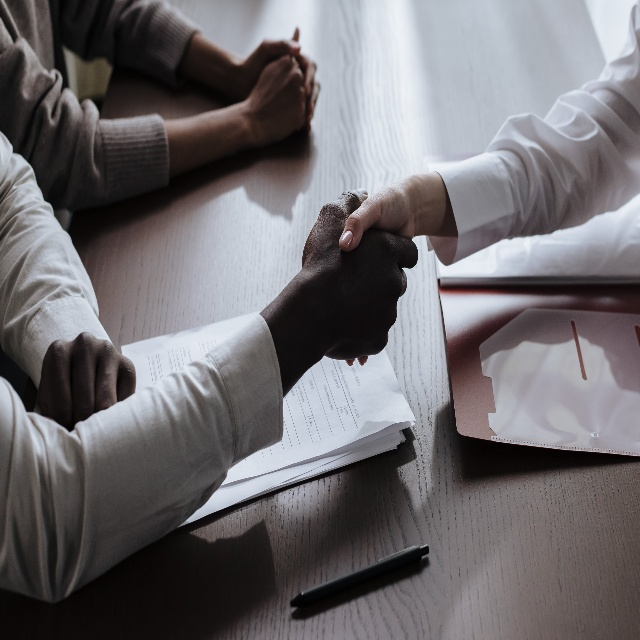Sin_guantes: (302, 188, 420, 362), (37, 337, 135, 428), (239, 37, 322, 115), (248, 53, 309, 145), (340, 181, 415, 252)
